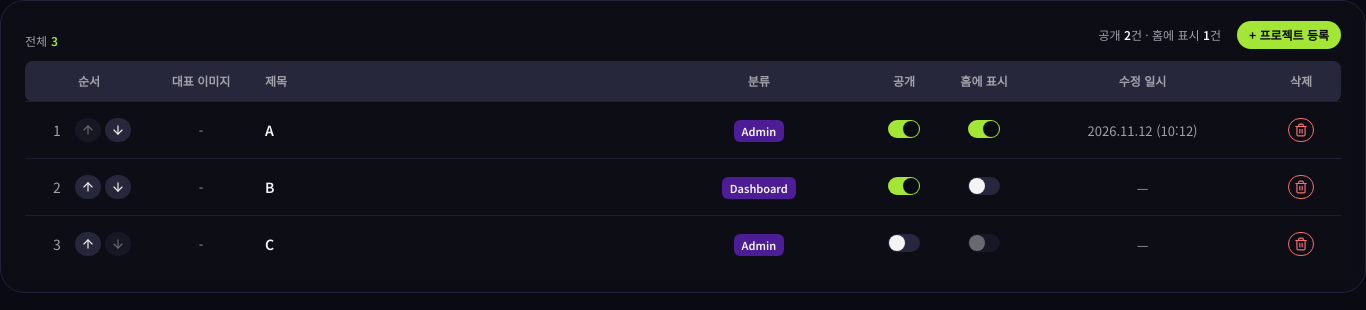
it: ProjectList › 홈에 표시를 켜면 곧바로 저장하고 건수가 바뀐다
Click the switch named "B 홈에 표시" at x=984, y=186, box [968,176,1000,194]
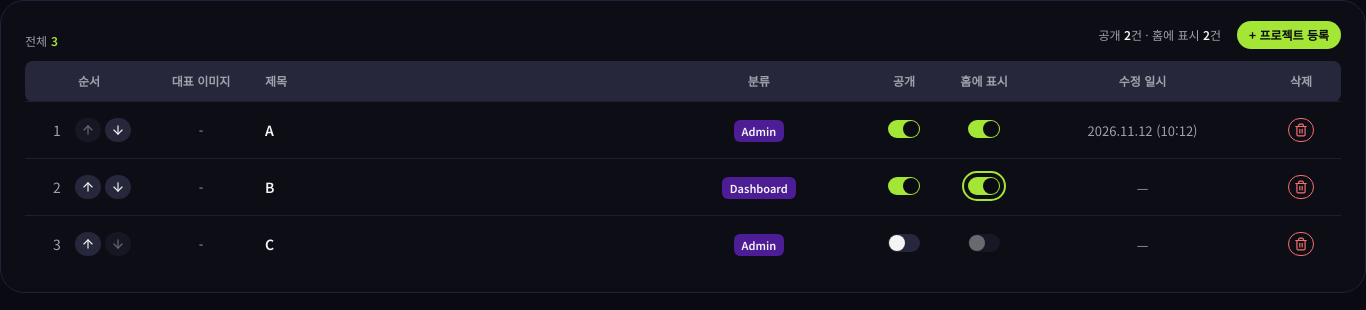
Check: the text "공개 2건 · 홈에 표시 2건" is shown, box [1098,27,1221,43]
